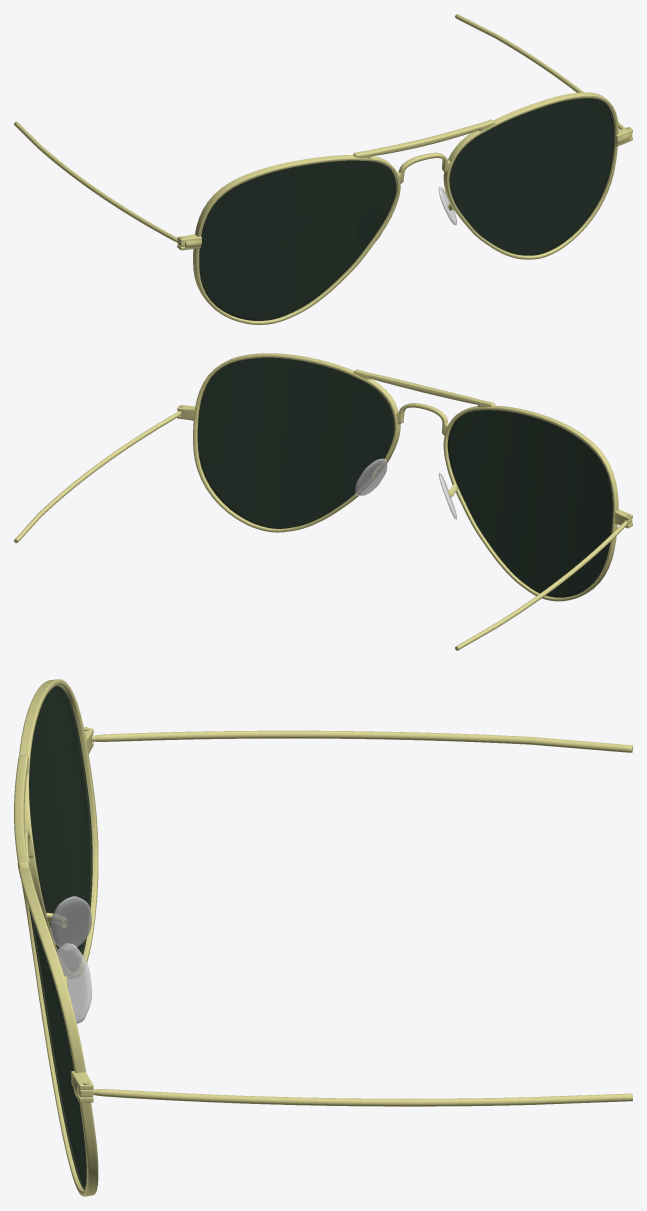
The model's file is Aviator_classic_APP.glb.
3 views of the same model, one above another, from view 1: azimuth 30°, elevation 25°; view 2: azimuth 150°, elevation 25°; view 3: azimuth 270°, elevation 25° (orthographic). The views are drawn at different scales.
Visible parts, largest first — view 1: lentes, armacao; view 2: lentes, armacao, ponte; view 3: armacao, lentes, ponte.
Boxes of the visible parts, x1,y1,x2,y2 form: lentes: [199, 98, 614, 320]; armacao: [14, 14, 632, 324]; lentes: [197, 357, 612, 597]; armacao: [14, 353, 632, 650]; ponte: [355, 458, 456, 519]; armacao: [14, 679, 632, 1196]; lentes: [29, 685, 92, 1189]; ponte: [50, 896, 91, 1023].
Bounding box in the file's own units: 0.1601 × 0.055 × 0.113.
